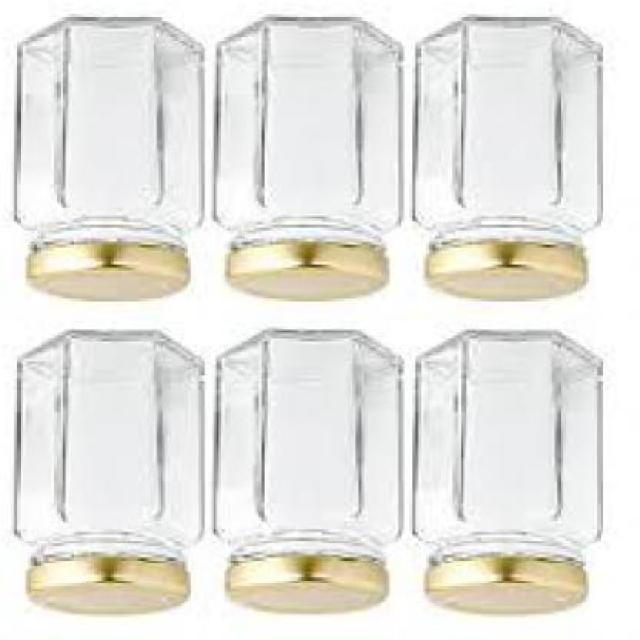GLASS: (216, 17, 407, 254), (419, 329, 603, 569), (20, 332, 205, 570), (419, 19, 606, 253), (216, 336, 404, 566), (23, 22, 205, 253)
METAL: (429, 558, 589, 618), (429, 244, 589, 302), (32, 558, 196, 614), (230, 248, 390, 304), (230, 560, 390, 614), (34, 250, 194, 302)
